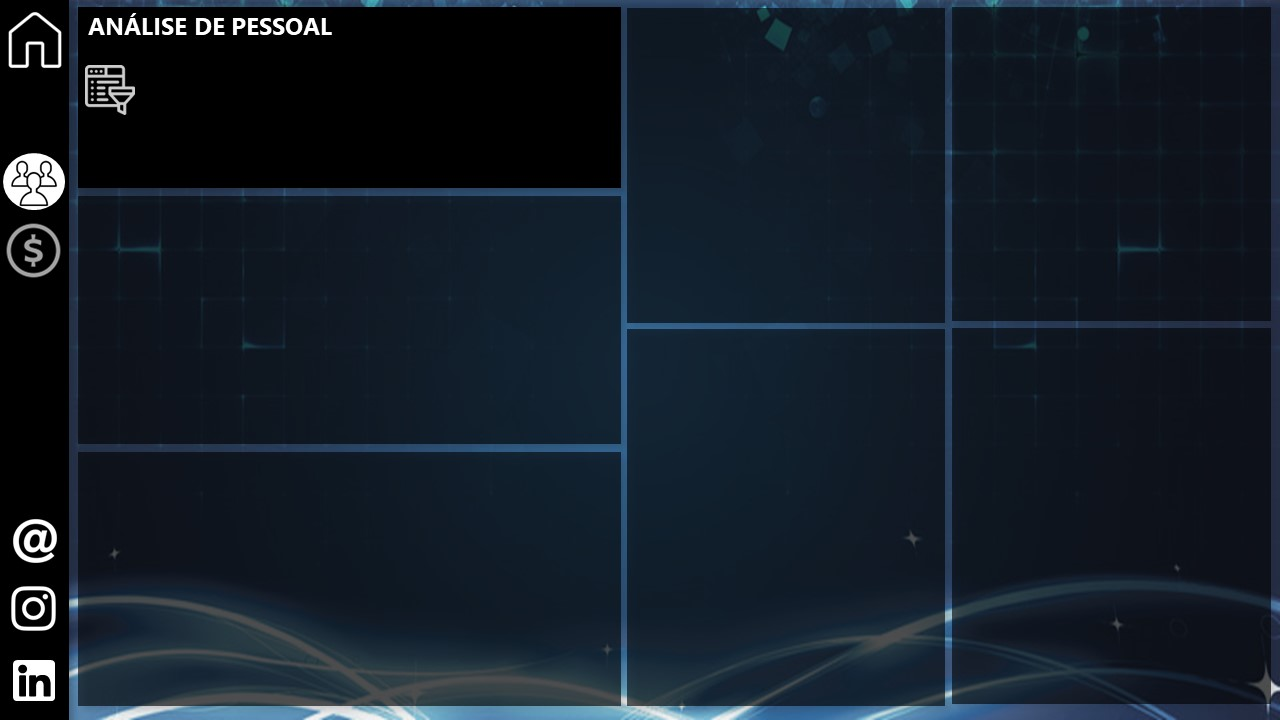

The page's visual inventory and layout, read from the dashboard file:
{"tool":"powerbi","page":{"name":"Análise Pessoal","canvas":[1280,720],"ordinal":1},"visuals":[{"type":"actionButton","box":[0,516.3,70.7,48.1],"z":0},{"type":"actionButton","box":[0,577.1,70.7,56.6],"z":1000},{"type":"actionButton","box":[0,649.3,70.7,50.9],"z":2000},{"type":"columnChart","title":"Funcionários por Escolaridade","fields":{"Category":["Tab_Colaboradores.Escolaridade"],"Y":["Medidas.Qtde Funcionários"],"Series":["Tab_Colaboradores.Genero"]},"box":[80.6,193.2,539.2,246.9],"z":3000},{"type":"card","fields":{"Values":["Medidas.Qtde Funcionarios"]},"box":[731.9,146.4,107.2,68.1],"z":4000},{"type":"columnChart","title":"Funcionários por Setor","fields":{"Category":["Tab_Colaboradores.Setor"],"Y":["Medidas.Qtde Funcionários"],"Series":["Tab_Colaboradores.Genero"]},"box":[80.7,453,539.8,247],"z":5000},{"type":"barChart","title":"Funcionários por Cargo","fields":{"Category":["Tab_Colaboradores.Cargo"],"Y":["Medidas.Qtde Funcionários"],"Series":["Tab_Colaboradores.Genero"]},"box":[630.1,328.9,309.6,371.1],"z":6000},{"type":"columnChart","title":"Funcionários por Cidade","fields":{"Category":["Tab_Colaboradores.Cidade"],"Y":["Medidas.Qtde Funcionários"],"Series":["Tab_Colaboradores.Genero"]},"box":[954.2,328.9,314.5,371.1],"z":7000},{"type":"donutChart","title":"Funcionários por Gênero","fields":{"Y":["Medidas.Qtde Funcionários"],"Series":["Tab_Colaboradores.Genero"]},"box":[629,0,310.1,315.9],"z":8000},{"type":"columnChart","title":"Funcionários por Faixa Etária","fields":{"Y":["Medidas.Qtde Funcionários"],"Series":["Tab_Colaboradores.Genero"],"Category":["Tab_Colaboradores.Faixa Etária"]},"box":[953.6,7.2,314.5,308.7],"z":9000},{"type":"slicer","fields":{"Values":["Tab_Colaboradores.Setor"]},"box":[128.7,38.2,164.1,63.7],"z":10000},{"type":"slicer","fields":{"Values":["Tab_Colaboradores.Genero"]},"box":[292.8,38.2,164.1,63.7],"z":11000},{"type":"slicer","fields":{"Values":["Tab_Colaboradores.Escolaridade"]},"box":[456.9,38.2,164.1,63.7],"z":12000},{"type":"slicer","fields":{"Values":["Tab_Colaboradores.Idade"]},"box":[130.2,113.3,164.1,63.7],"z":13000},{"type":"slicer","fields":{"Values":["Tab_Colaboradores.Cargo"]},"box":[294.3,113.3,164.1,63.7],"z":14000},{"type":"slicer","fields":{"Values":["Tab_Colaboradores.Cidade"]},"box":[458.4,113.3,164.1,63.7],"z":15000},{"type":"actionButton","box":[0,223.5,70.7,56.6],"z":16000},{"type":"actionButton","box":[0,7.1,70.7,63.7],"z":17000},{"type":"actionButton","box":[0,216.4,70.7,63.7],"z":18000},{"type":"actionButton","box":[0,393.2,70.7,48.1],"z":19000}]}

Visuals, with their boxes on the page's 1280x720 design canvas (x1, y1, x2, y2). These are canvas units, not pixel positions in the 1280x720 screenshot, which may show the page scaled, cropped or inside an application window:
actionButton: x1=0 y1=516 x2=71 y2=564
actionButton: x1=0 y1=577 x2=71 y2=634
actionButton: x1=0 y1=649 x2=71 y2=700
"Funcionários por Escolaridade" columnChart: x1=81 y1=193 x2=620 y2=440
card - Medidas.Qtde Funcionarios: x1=732 y1=146 x2=839 y2=214
"Funcionários por Setor" columnChart: x1=81 y1=453 x2=620 y2=700
"Funcionários por Cargo" barChart: x1=630 y1=329 x2=940 y2=700
"Funcionários por Cidade" columnChart: x1=954 y1=329 x2=1269 y2=700
"Funcionários por Gênero" donutChart: x1=629 y1=0 x2=939 y2=316
"Funcionários por Faixa Etária" columnChart: x1=954 y1=7 x2=1268 y2=316
slicer - Tab_Colaboradores.Setor: x1=129 y1=38 x2=293 y2=102
slicer - Tab_Colaboradores.Genero: x1=293 y1=38 x2=457 y2=102
slicer - Tab_Colaboradores.Escolaridade: x1=457 y1=38 x2=621 y2=102
slicer - Tab_Colaboradores.Idade: x1=130 y1=113 x2=294 y2=177
slicer - Tab_Colaboradores.Cargo: x1=294 y1=113 x2=458 y2=177
slicer - Tab_Colaboradores.Cidade: x1=458 y1=113 x2=622 y2=177
actionButton: x1=0 y1=224 x2=71 y2=280
actionButton: x1=0 y1=7 x2=71 y2=71
actionButton: x1=0 y1=216 x2=71 y2=280
actionButton: x1=0 y1=393 x2=71 y2=441
